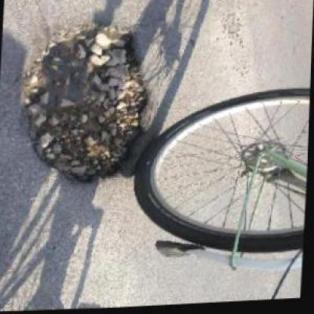Hueco: (18, 21, 156, 190)
